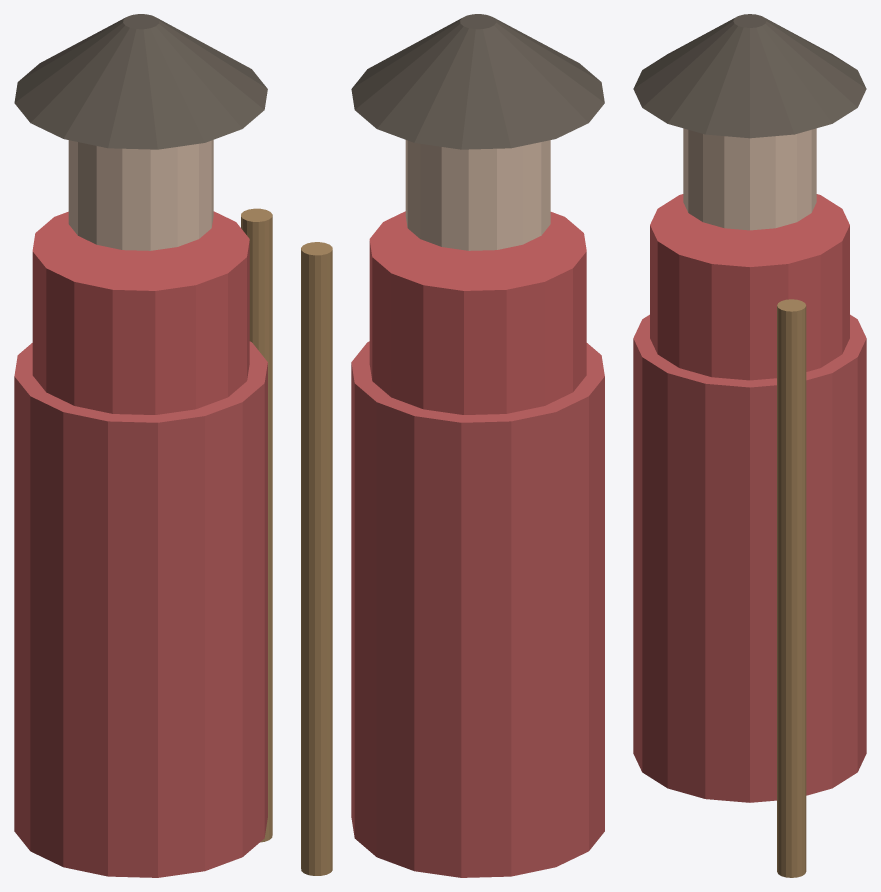
Rendered from npc_elder.glb.
3 views of the same model, side by side, from view 1: azimuth 30°, elevation 25°; view 2: azimuth 150°, elevation 25°; view 3: azimuth 270°, elevation 25° (orthographic). The views are drawn at different scales.
Visible parts, largest first — view 1: npc_elder; view 2: npc_elder; view 3: npc_elder.
Boxes of the visible parts, x1,y1,x2,y2 form: npc_elder: (14, 14, 272, 877); npc_elder: (301, 14, 604, 877); npc_elder: (633, 14, 866, 877).
Bounding box in the file's own units: 0.665 × 2.09 × 0.56.
